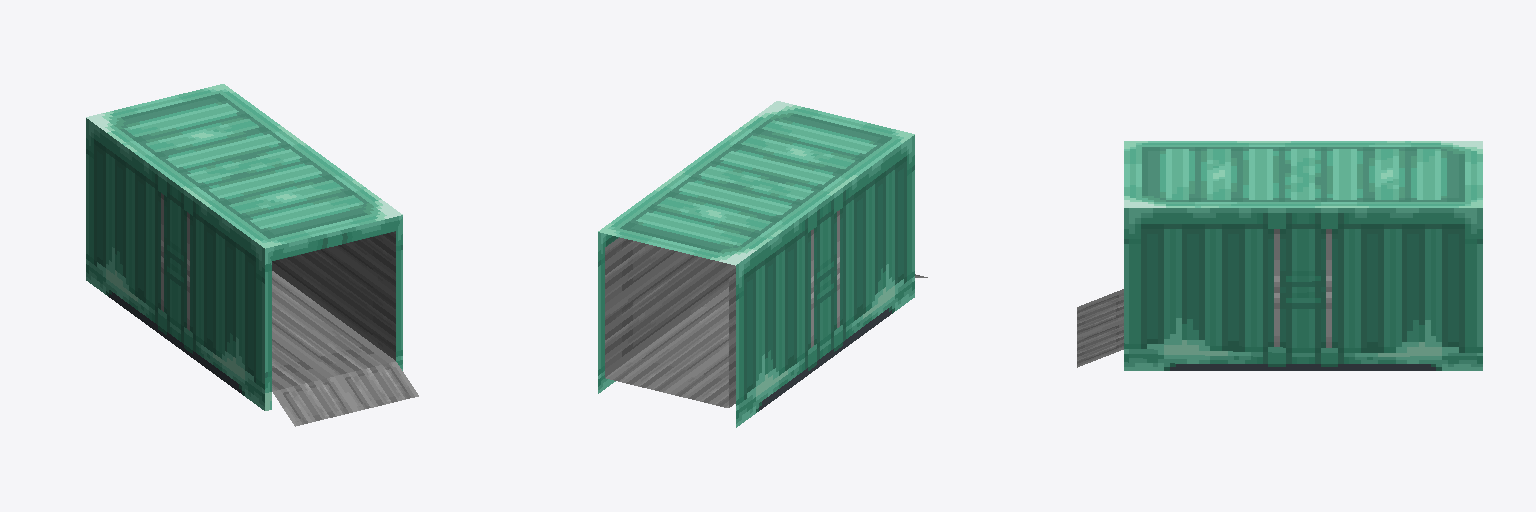
3 renders of one model, left to right at view 1: azimuth 30°, elevation 25°; view 2: azimuth 150°, elevation 25°; view 3: azimuth 270°, elevation 25°, orthographic.
Visible parts, largest first — view 1: polygon1, polygon0, polygon2; view 2: polygon1, polygon0, polygon2; view 3: polygon1, polygon0, polygon2.
Part boxes in pixels (x1,y1,x2,y2): polygon1: (86, 118, 402, 410); polygon0: (86, 84, 402, 248); polygon2: (272, 231, 418, 426); polygon1: (598, 135, 914, 427); polygon0: (598, 101, 914, 265); polygon2: (605, 237, 927, 407); polygon1: (1124, 208, 1482, 370); polygon0: (1124, 141, 1482, 207); polygon2: (1077, 289, 1123, 367).
Size of the model in its own units: 5 by 5.62 by 12.7.
Materials: 3 (3 with a texture image).